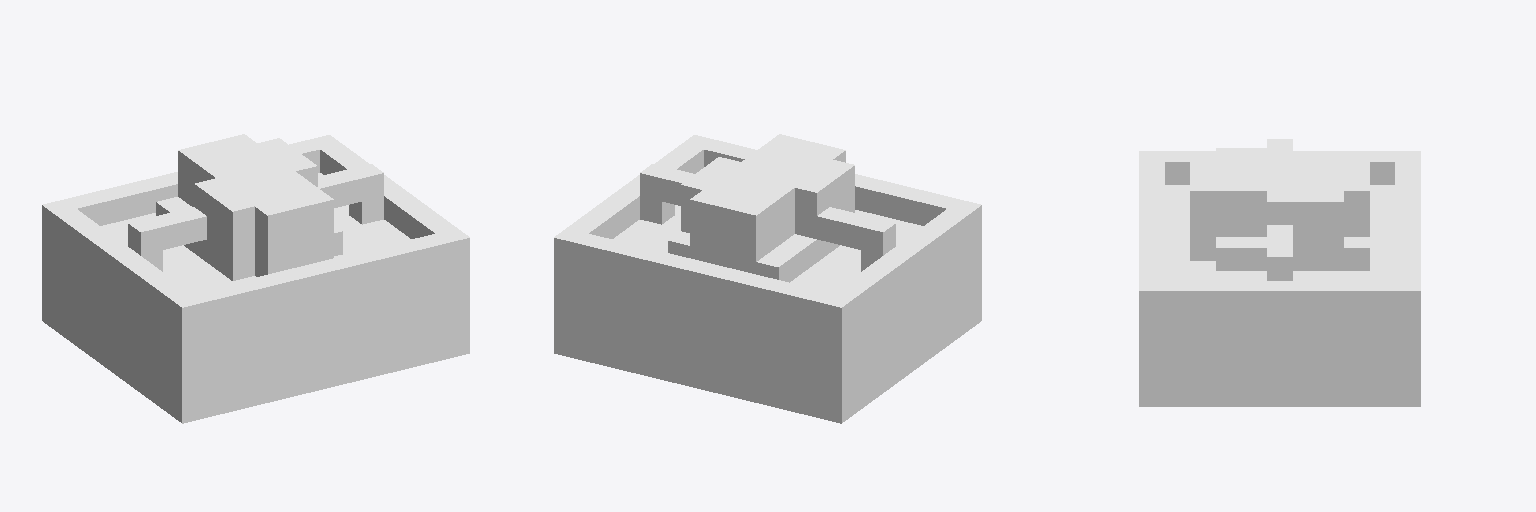
Rendered from shop_power.obj.
The picture shows the model from 3 angles: view 1: azimuth 30°, elevation 25°; view 2: azimuth 150°, elevation 25°; view 3: azimuth 270°, elevation 25°; orthographic projection.
Parts seen in each view (by area): view 1: object 1; view 2: object 1; view 3: object 1.
Boxes of the visible parts, x1=… form: object 1: x1=42, y1=134, x2=469, y2=423; object 1: x1=554, y1=134, x2=981, y2=423; object 1: x1=1139, y1=139, x2=1420, y2=406.
Bounding box in the file's own units: 1.3 × 0.7 × 1.1.